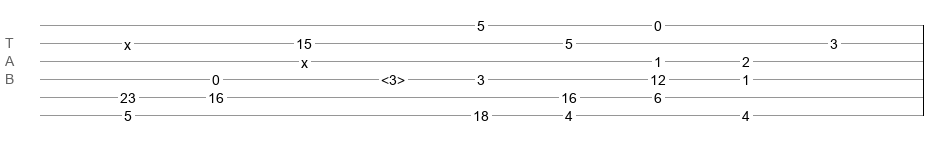0: (212, 72, 220, 82), (654, 18, 662, 28)
1: (654, 54, 662, 64), (742, 72, 750, 82)
12: (650, 72, 666, 82)
15: (296, 36, 312, 46)
16: (208, 90, 224, 100), (561, 90, 577, 100)
18: (473, 108, 489, 118)
2: (742, 54, 750, 64)
23: (120, 90, 136, 100)
3: (477, 72, 485, 82), (830, 36, 838, 46)
4: (565, 108, 573, 118), (742, 108, 750, 118)
5: (124, 108, 132, 118), (477, 18, 485, 28), (565, 36, 573, 46)
6: (654, 90, 662, 100)
harmonic: (381, 72, 405, 82)
x: (124, 37, 131, 45), (301, 55, 308, 63)
